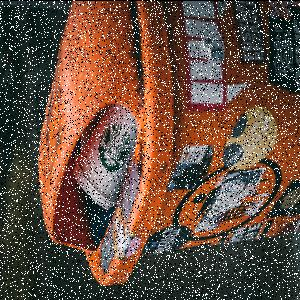Cup: (73, 105, 137, 211)
